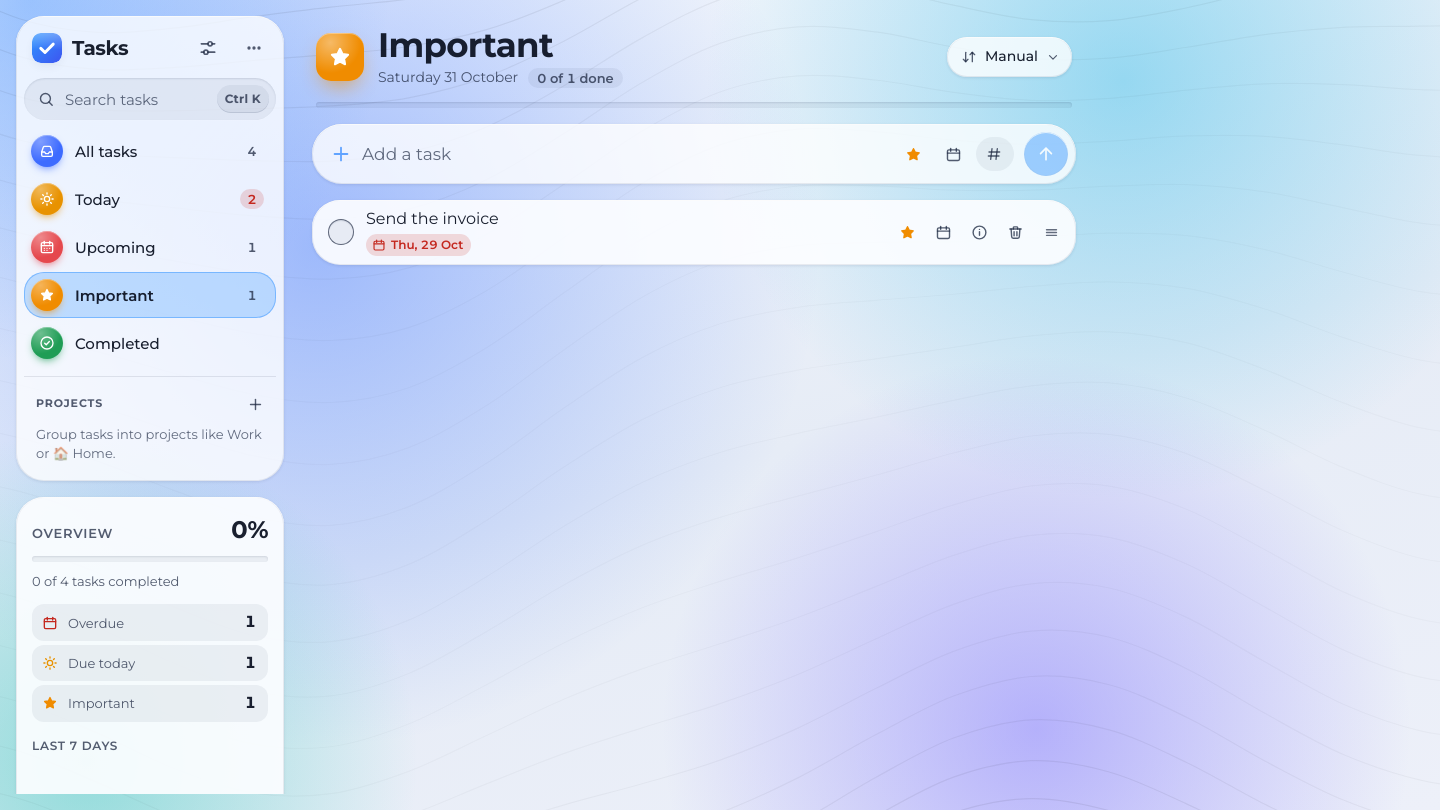
Tasks › removes tasks that leave the current list
This screenshot has width=1440, height=810.
Click the button named "Mark “Send the invoice” as important" at (907, 232), box [890,216,924,250]
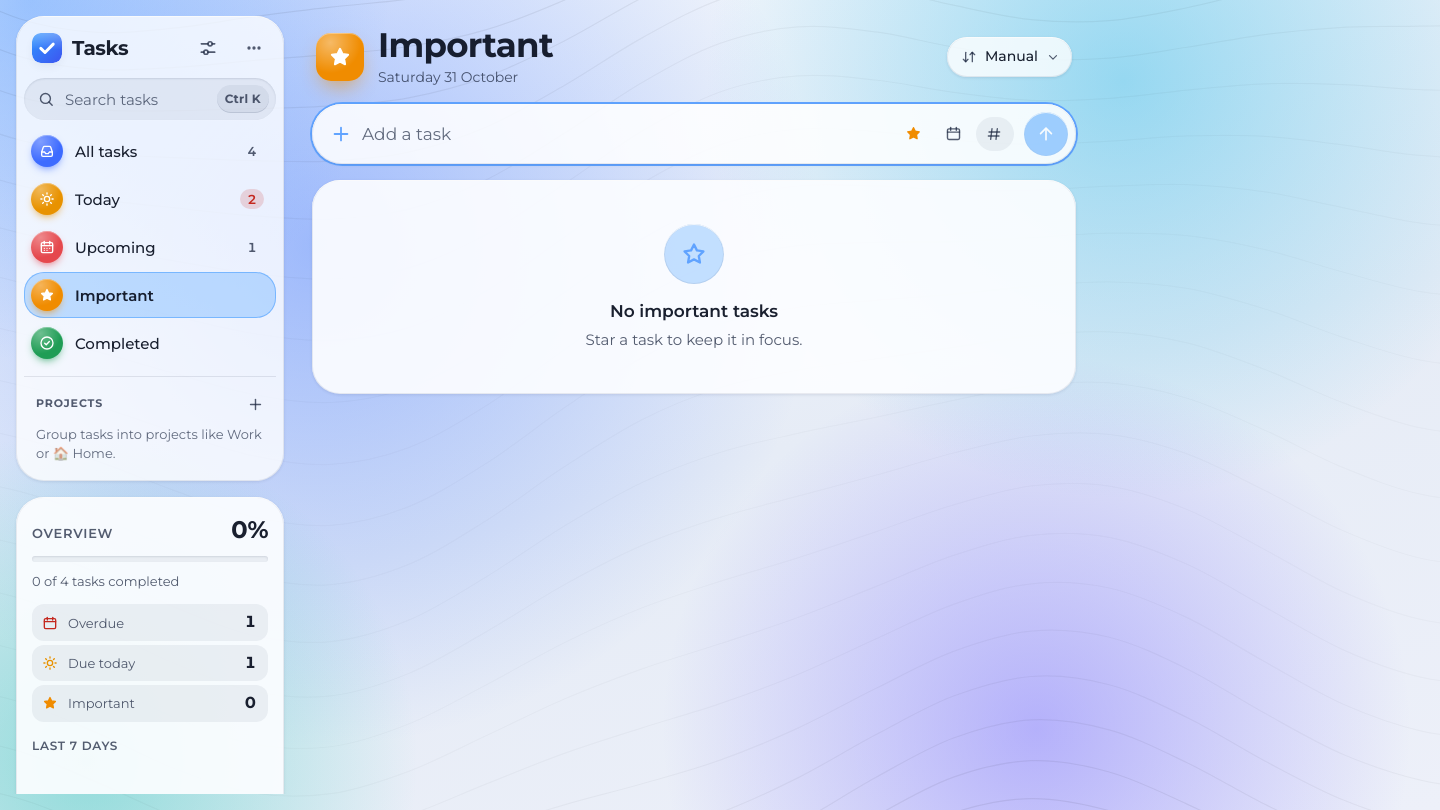
Now the text "No important tasks" is shown, box [610,300,778,324]
